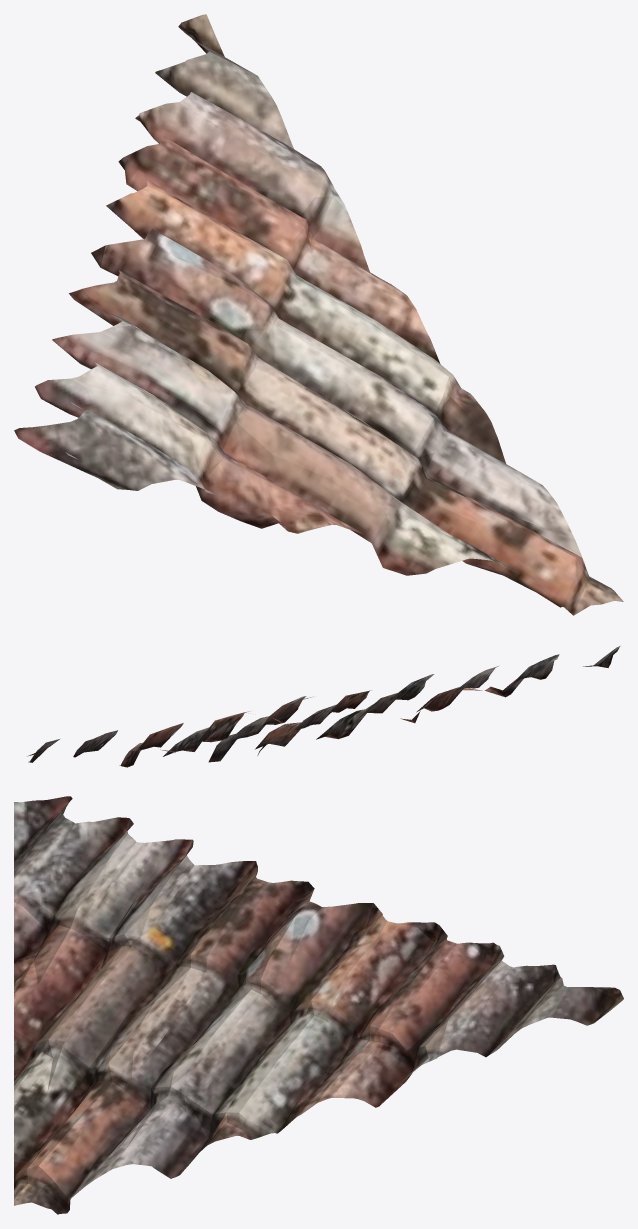
The picture shows the model from 3 angles, top to bottom: view 1: azimuth 30°, elevation 25°; view 2: azimuth 150°, elevation 25°; view 3: azimuth 270°, elevation 25°; orthographic projection. The views are drawn at different scales.
Bounding box in the file's own units: 1.25 × 0.6166 × 1.59.
2 materials, 2 textured.
